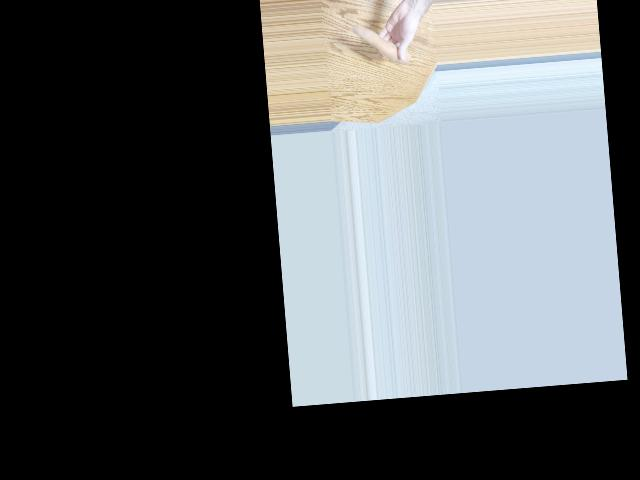sweet_potato: (352, 18, 410, 65)
